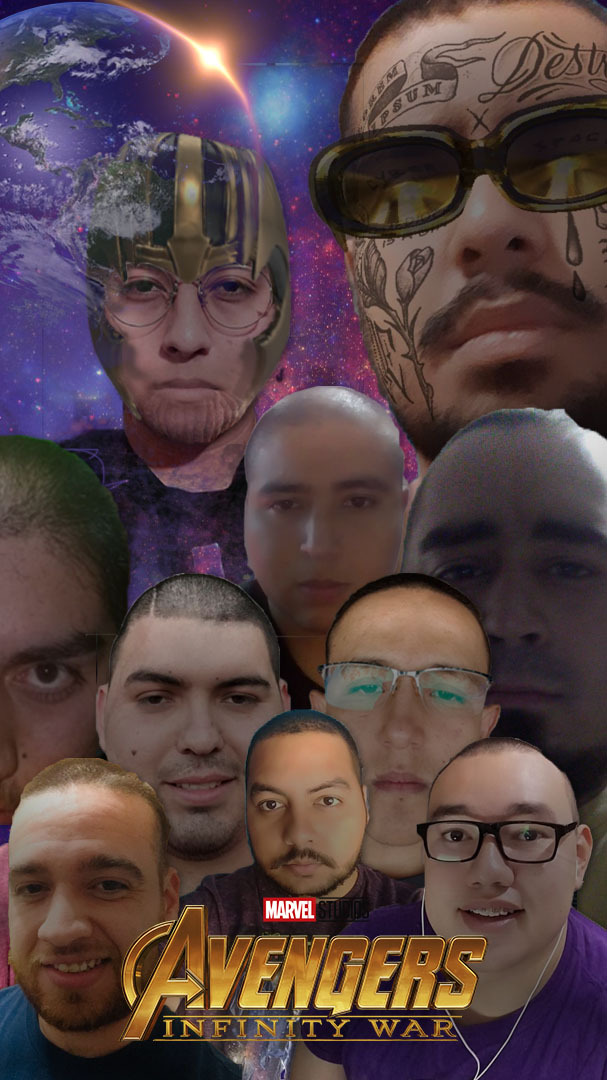Yoshi: (238, 710, 374, 894)
